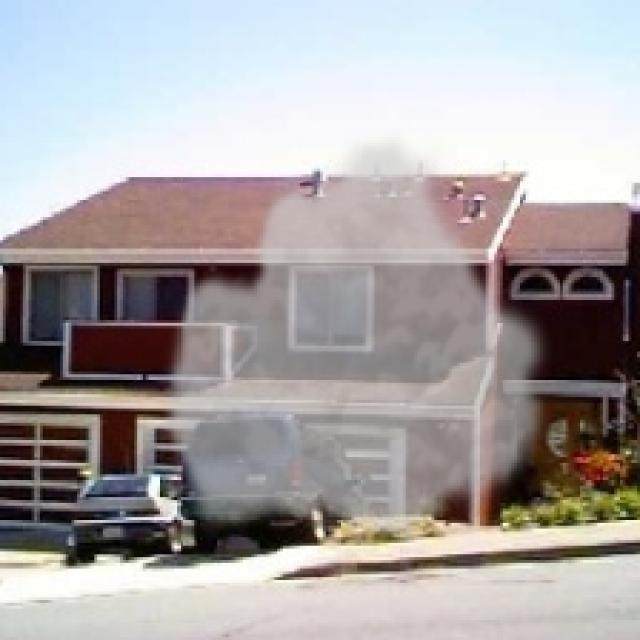Smoke: (157, 128, 557, 543)
